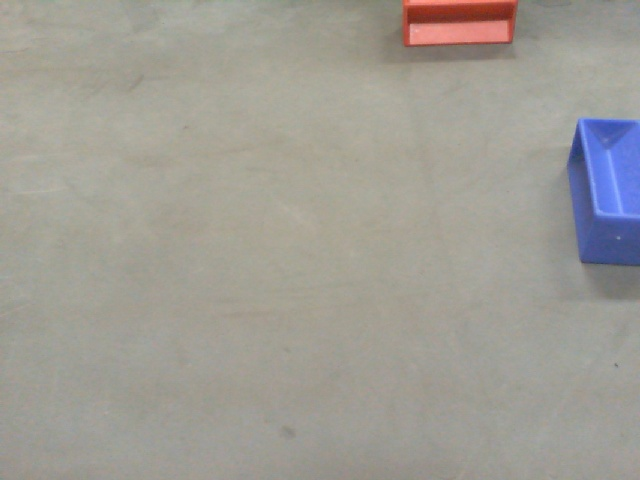BlueSample: (562, 114, 640, 268)
RedSample: (399, 1, 520, 50)
